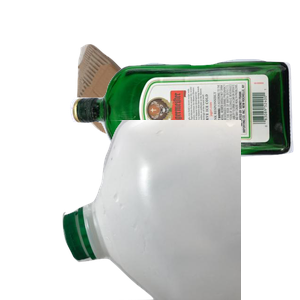cardboard: (74, 42, 225, 170)
glass: (67, 56, 300, 206)
plastic: (60, 120, 300, 300)
trash: (120, 131, 290, 300)
